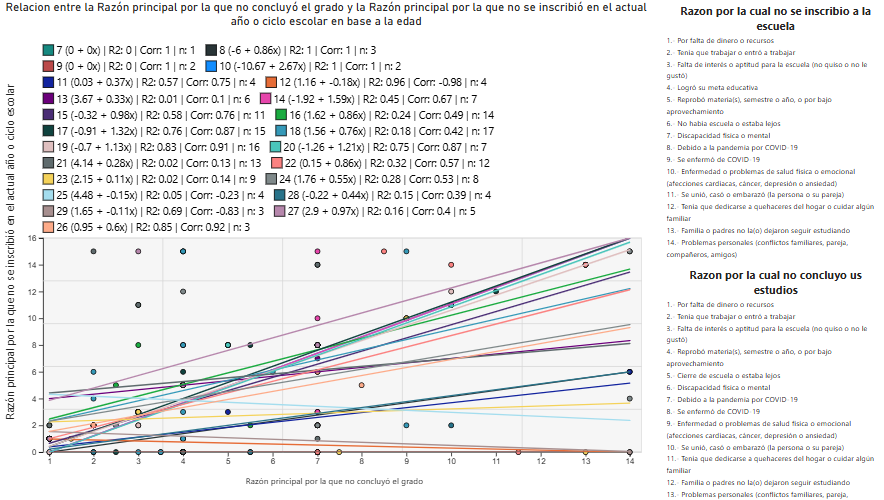

This screenshot's page, from the dashboard's own definition file:
{"tool":"powerbi","page":{"name":"Regresion Lineal","canvas":[1280,720],"ordinal":5},"visuals":[{"type":"cdRegressionChartFEDFE3FECE5F4724A9EAF1D1F0D509A3","title":"Relacion entre la Razón principal por la que no concluyó el grado y la Razón principal por la que no se inscribió en el actual año o ciclo escolar en base a la edad","fields":{"x":["Enape 2021.¿Cuál fue la razón principal por la que no concluyó el grado?"],"y":["Enape 2021.¿Cuál es la razón principal por la que no se inscribió en el actual año o ciclo escolar?"],"subgroup":["Enape 2021.Edad"],"uniqueID":["Enape 2021.Sexo"]},"box":[0,0,940.3,719.4],"z":0},{"type":"textbox","box":[950.7,0,329.9,377.6],"z":1000},{"type":"textbox","box":[950.7,377.6,329.9,341.8],"z":2000}]}

Visuals, with their boxes in screenshot pixels (x1, y1, x2, y2), scaled from the page's 1280x720 canvas onto the 884x500 screenshot:
"Relacion entre la Razón principal por la que no concluyó el grado y la Razón principal por la que no se inscribió en el actual año o ciclo escolar en base a la edad" cdRegressionChartFEDFE3FECE5F4724A9EAF1D1F0D509A3: l=0, t=0, r=649, b=499
textbox: l=657, t=0, r=883, b=262
textbox: l=657, t=262, r=883, b=499
